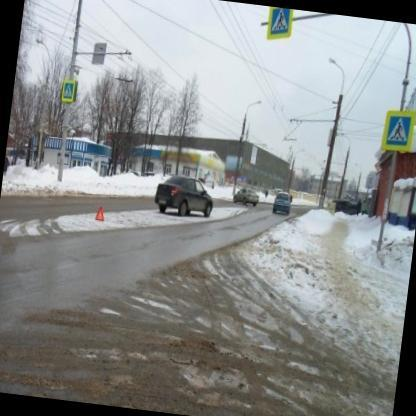road_sign: (381, 111, 416, 151), (268, 7, 291, 38), (62, 81, 76, 101)
